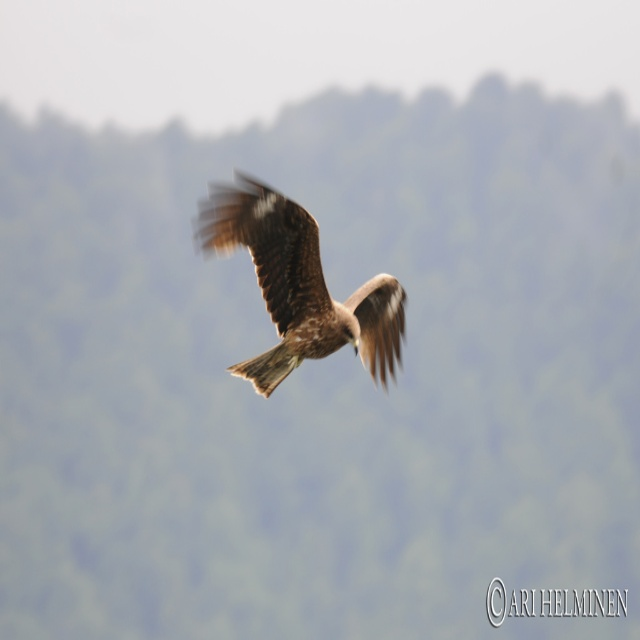Eagle: (191, 164, 409, 400)
